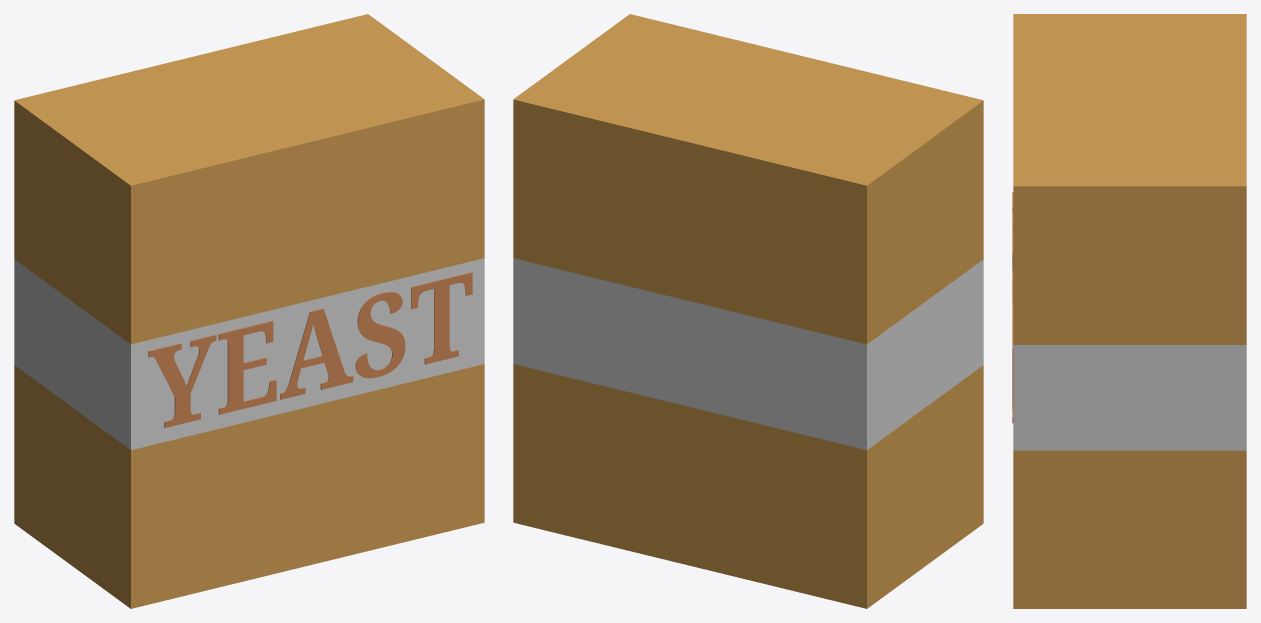
File: possiblyYeast.glb
3 views of the same model, side by side, from view 1: azimuth 30°, elevation 25°; view 2: azimuth 150°, elevation 25°; view 3: azimuth 270°, elevation 25° (orthographic).
Parts seen in each view (by area): view 1: Mesh_Mesh_head_geo.001_lambert2SG.001; view 2: Mesh_Mesh_head_geo.001_lambert2SG.001; view 3: Mesh_Mesh_head_geo.001_lambert2SG.001.
Boxes of the visible parts, x1,y1,x2,y2 form: Mesh_Mesh_head_geo.001_lambert2SG.001: (14, 14, 484, 608); Mesh_Mesh_head_geo.001_lambert2SG.001: (513, 14, 983, 608); Mesh_Mesh_head_geo.001_lambert2SG.001: (1012, 14, 1246, 608).
Size of the model in its own units: 0.007 by 0.008 by 0.00402.
